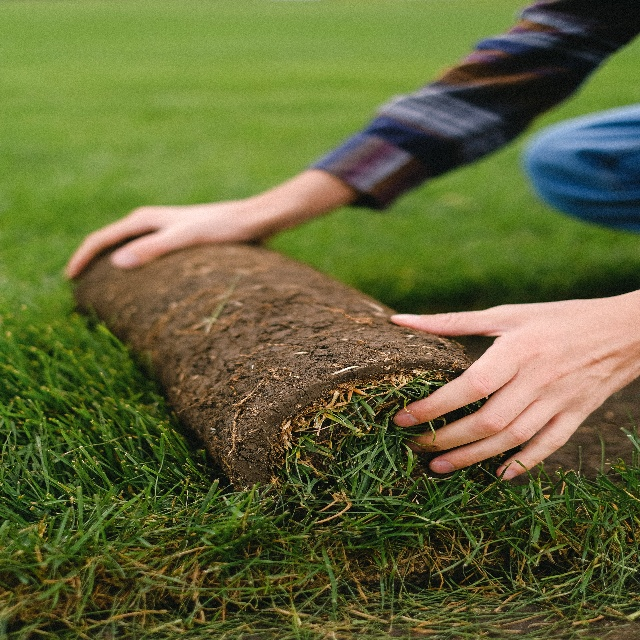Sin_guantes: (387, 299, 640, 484), (61, 188, 268, 281)
